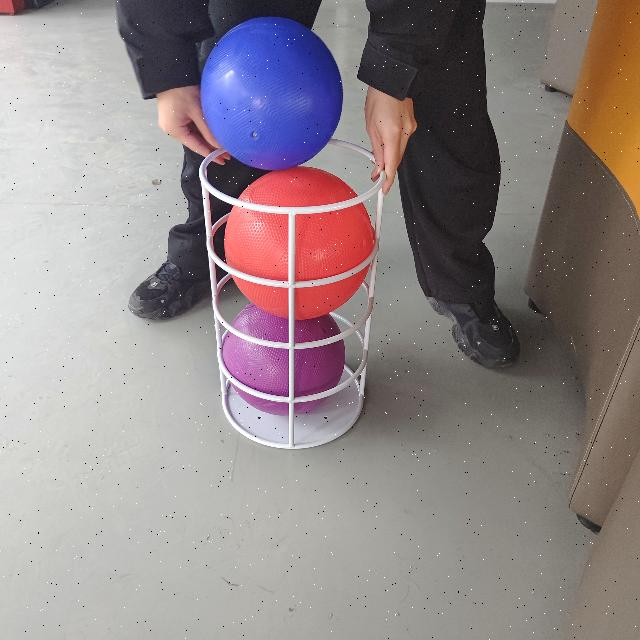B: (196, 9, 346, 168)
P: (228, 306, 346, 418)
R: (225, 165, 375, 318)
S: (208, 160, 380, 448)
